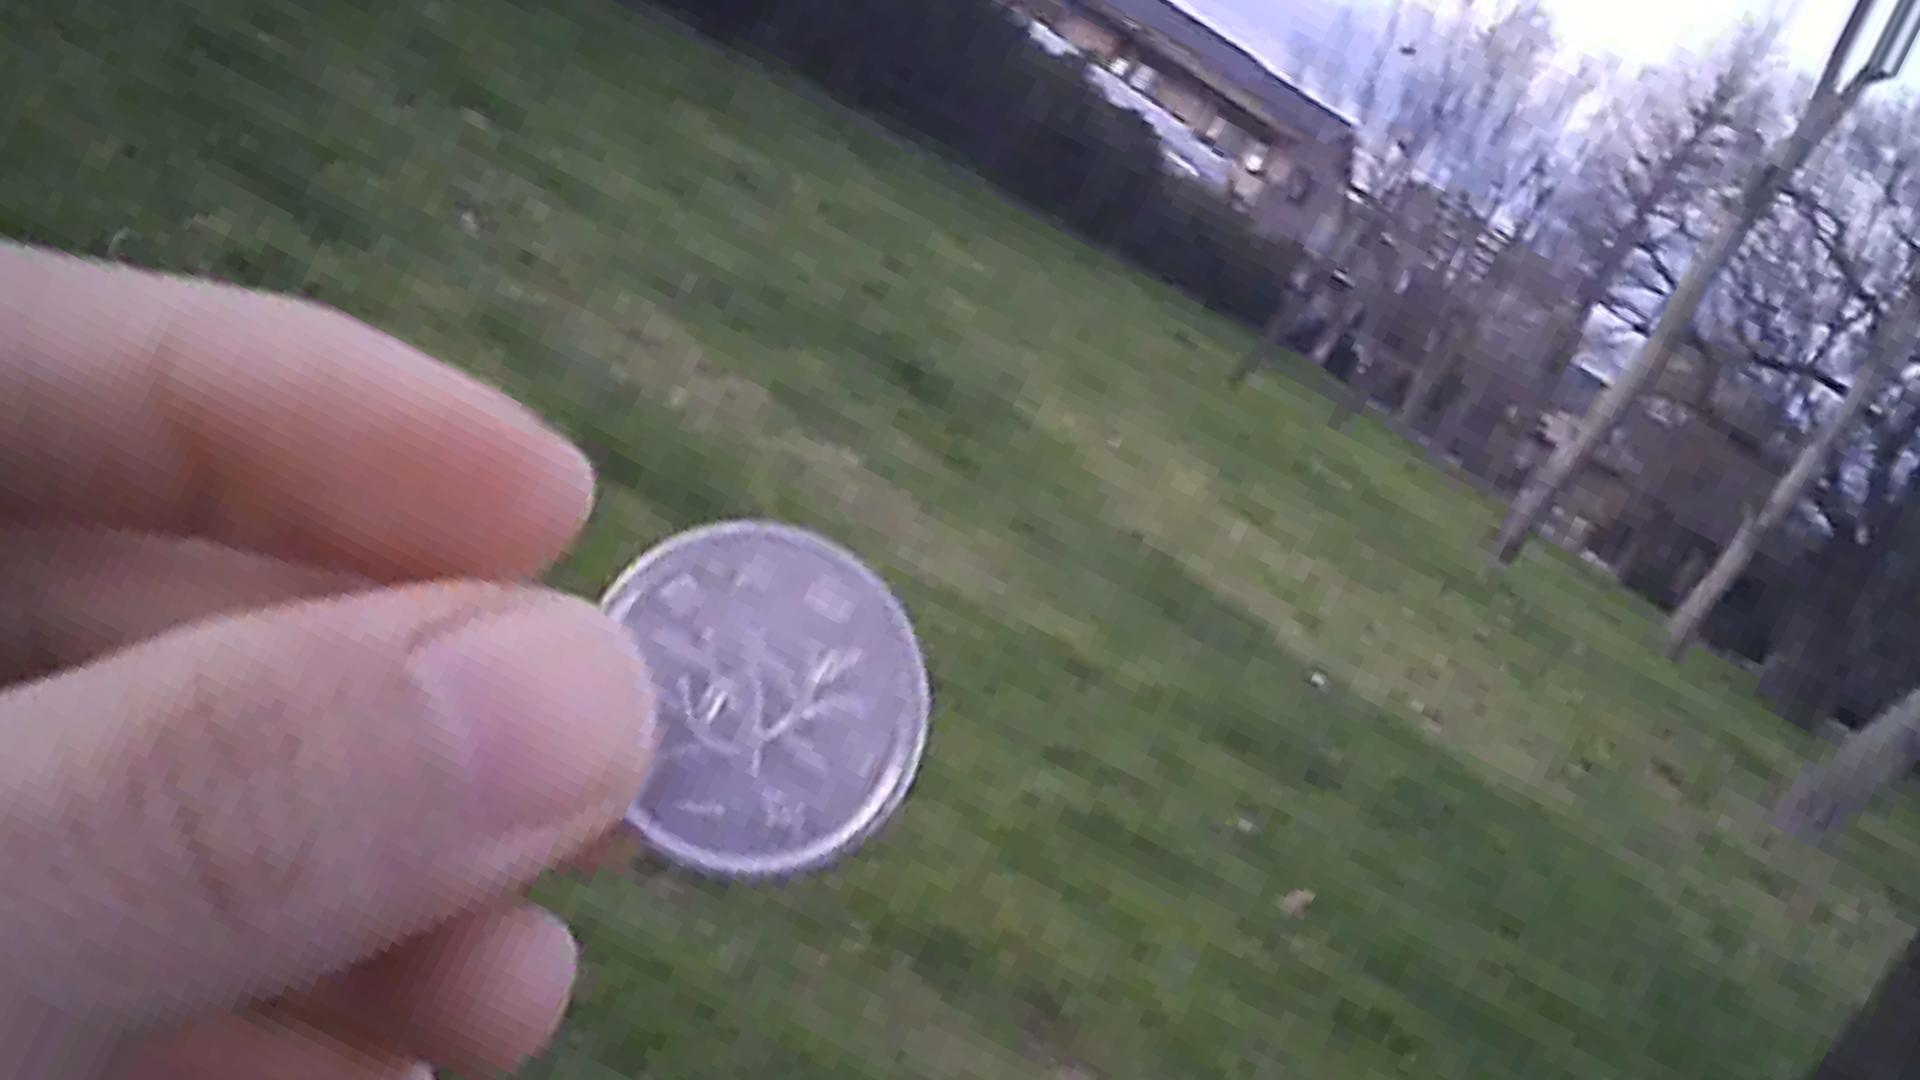1 Yen: (589, 516, 949, 882)
